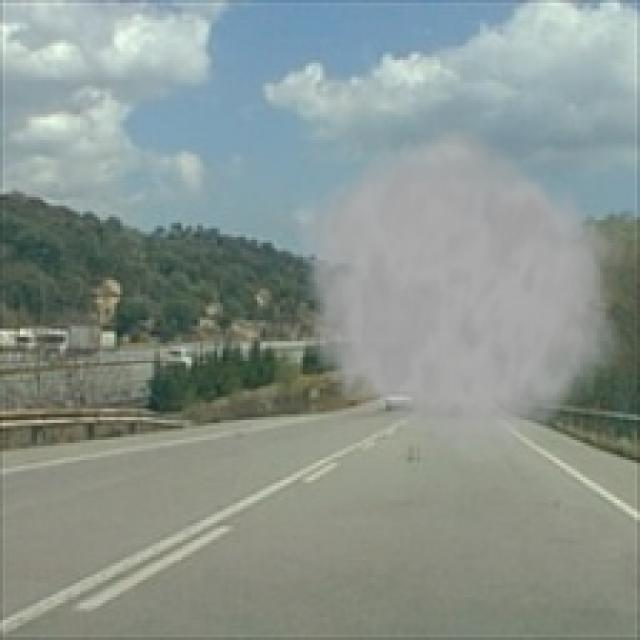smoke: (283, 117, 626, 472)
